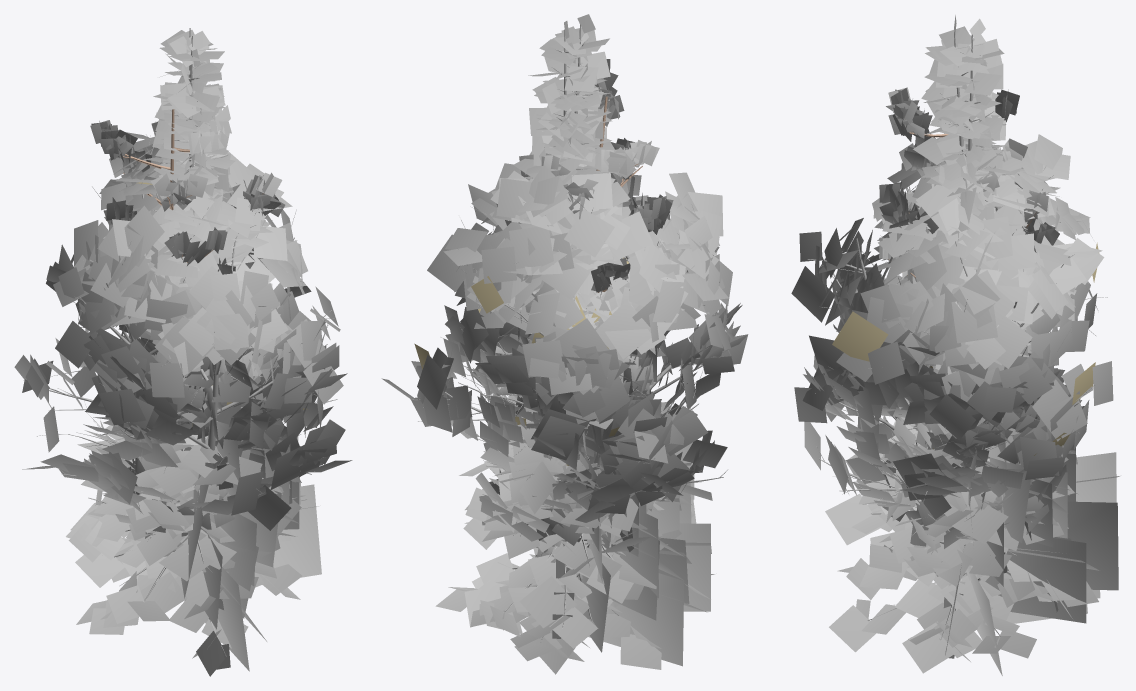
Rendered from vegetation.glb.
3 views of the same model, side by side, from view 1: azimuth 30°, elevation 25°; view 2: azimuth 150°, elevation 25°; view 3: azimuth 270°, elevation 25° (orthographic). The views are drawn at different scales.
Parts seen in each view (by area): view 1: wide_LOD0, round_LOD0, spruce_LOD0, spruce_b_LOD0, pine_LOD0, fruit_LOD0, slender_LOD0, birch_LOD0, birch_young_LOD0; view 2: round_LOD0, wide_LOD0, spruce_LOD0, spruce_b_LOD0, pine_LOD0, birch_LOD0, fruit_LOD0, slender_LOD0; view 3: wide_LOD0, spruce_LOD0, round_LOD0, spruce_b_LOD0, pine_LOD0, slender_LOD0, fruit_LOD0.
Boxes of the visible parts, x1,y1,x2,y2 form: wide_LOD0: (14, 149, 352, 530); round_LOD0: (46, 132, 347, 470); spruce_LOD0: (68, 28, 321, 676); spruce_b_LOD0: (66, 30, 305, 598); pine_LOD0: (90, 105, 285, 274); fruit_LOD0: (125, 421, 260, 529); slender_LOD0: (103, 259, 274, 451); birch_LOD0: (119, 324, 230, 486); birch_young_LOD0: (176, 369, 234, 439); round_LOD0: (411, 136, 742, 499); wide_LOD0: (381, 163, 748, 553); spruce_LOD0: (435, 21, 714, 674); spruce_b_LOD0: (459, 14, 696, 648); pine_LOD0: (496, 59, 673, 297); birch_LOD0: (477, 285, 654, 469); fruit_LOD0: (482, 442, 653, 547); slender_LOD0: (473, 290, 653, 482); wide_LOD0: (791, 172, 1113, 548); spruce_LOD0: (829, 18, 1118, 675); round_LOD0: (794, 134, 1097, 507); spruce_b_LOD0: (825, 15, 1119, 574); pine_LOD0: (872, 87, 1059, 283); slender_LOD0: (845, 275, 1057, 475); fruit_LOD0: (882, 458, 1043, 545).
Size of what is drawn, in the model's own units: 13.08 by 24.84 by 11.9.
